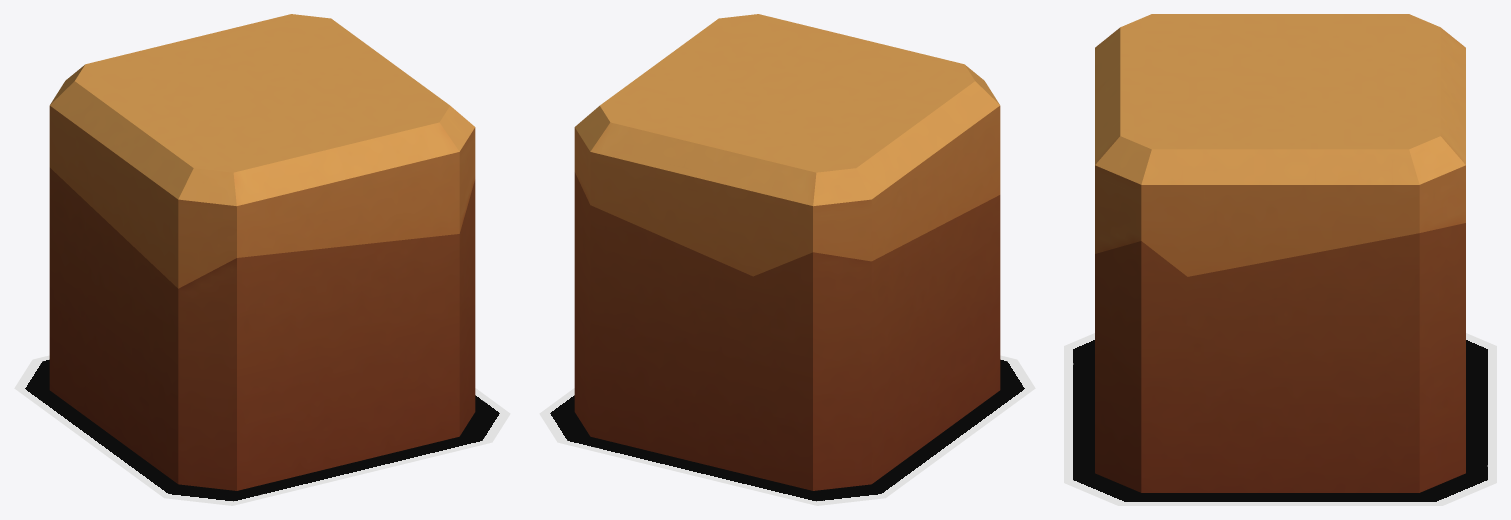
The model's file is 1x1_ground.FBX.
3 views of the same model, side by side, from view 1: azimuth 30°, elevation 25°; view 2: azimuth 150°, elevation 25°; view 3: azimuth 270°, elevation 25° (orthographic). The views are drawn at different scales.
Visible parts, largest first — view 1: 1x1_ground, 1x1_ground_soft_shadow; view 2: 1x1_ground, 1x1_ground_soft_shadow; view 3: 1x1_ground, 1x1_ground_soft_shadow.
Boxes of the visible parts, box(x1,y1,x2,y2) form: 1x1_ground: box(49, 14, 475, 490); 1x1_ground_soft_shadow: box(14, 355, 510, 505); 1x1_ground: box(574, 14, 1000, 490); 1x1_ground_soft_shadow: box(539, 355, 1035, 505); 1x1_ground: box(1095, 14, 1465, 492); 1x1_ground_soft_shadow: box(1064, 333, 1496, 505).
Size of the model in its own units: 1166 by 1000 by 1166.
